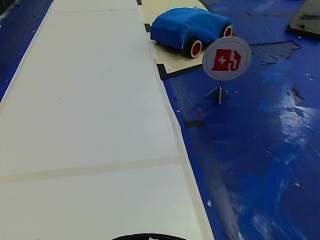battery: (206, 42, 244, 82)
car: (146, 4, 239, 42)
